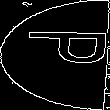P_E: (4, 35, 106, 75)
